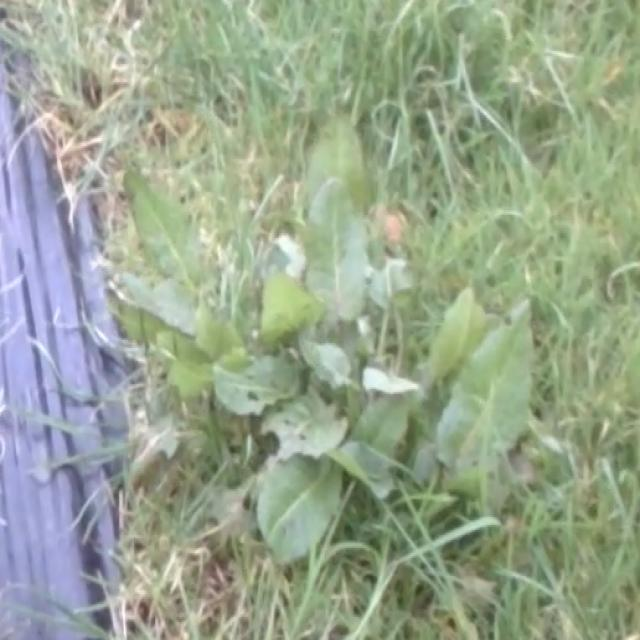organic waste: (95, 172, 640, 557)
